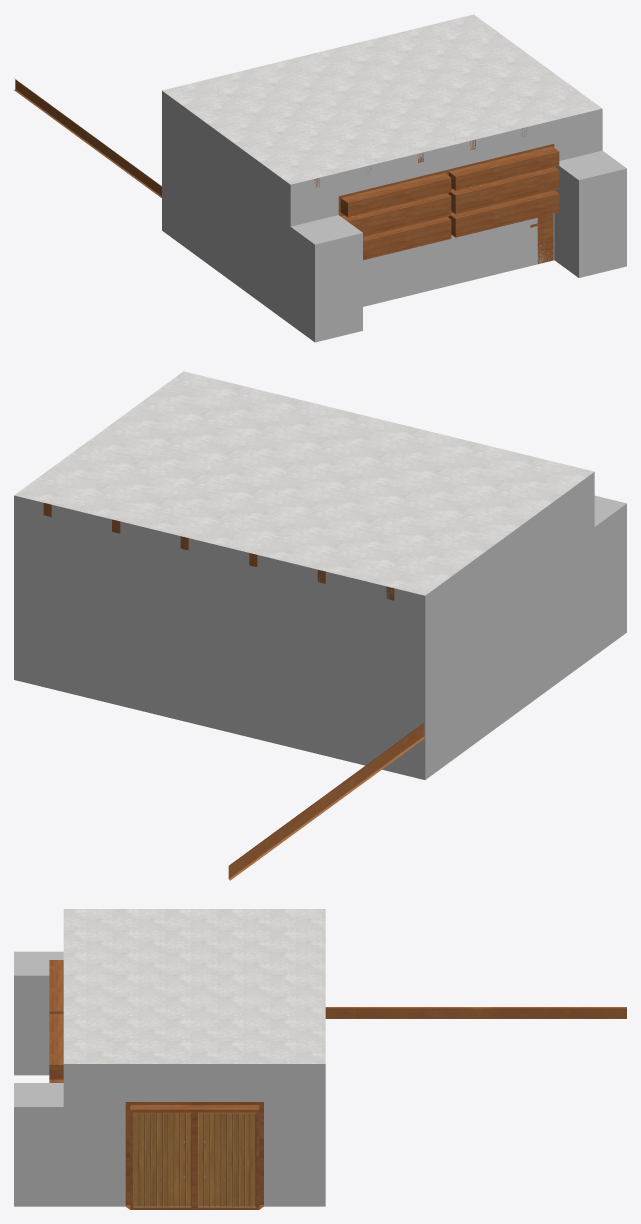
The model's file is Cena Base 01.FBX.
3 views of the same model, one above another, from view 1: azimuth 30°, elevation 25°; view 2: azimuth 150°, elevation 25°; view 3: azimuth 270°, elevation 25° (orthographic). The views are drawn at different scales.
Visible parts, largest first — view 1: Paredes, Plane095, Object007, Plane087, Box002; view 2: Paredes, Plane095, Plane087; view 3: Plane095, Paredes, Object008, Plane087, Porta, Borda Porta, Object007.
Part boxes in pixels (<box>): Paredes: <box>162,91,626,342</box>; Plane095: <box>162,14,601,184</box>; Object007: <box>338,144,559,260</box>; Plane087: <box>14,78,161,197</box>; Box002: <box>530,214,553,264</box>; Paredes: <box>14,472,626,779</box>; Plane095: <box>14,371,594,595</box>; Plane087: <box>228,723,424,880</box>; Plane095: <box>63,909,325,1063</box>; Paredes: <box>14,951,325,1206</box>; Object008: <box>133,1113,256,1206</box>; Plane087: <box>325,1007,626,1018</box>; Porta: <box>130,1109,259,1209</box>; Borda Porta: <box>125,1102,263,1209</box>; Object007: <box>49,960,63,1082</box>.
Bounding box in the file's own units: 719 × 301 × 1170.
